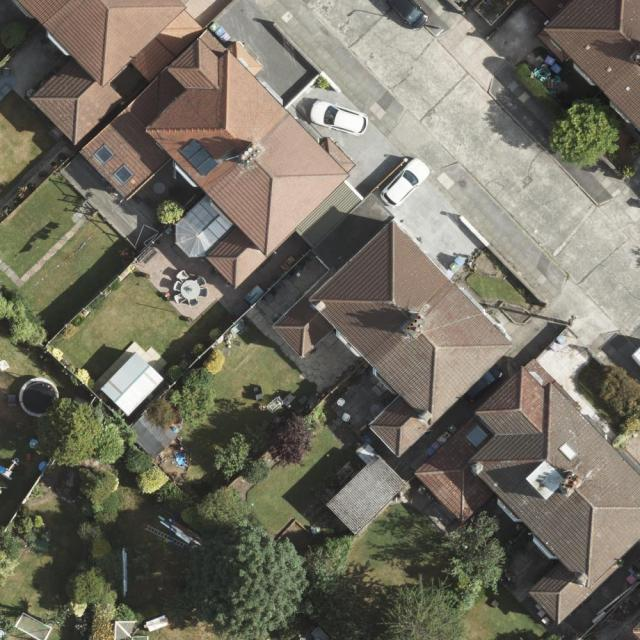roof: (16, 0, 518, 459), (417, 355, 640, 628), (543, 0, 640, 133)
skylight: (172, 195, 235, 256), (88, 139, 117, 167), (554, 439, 580, 466), (110, 163, 137, 189), (466, 423, 490, 450)
solar: (180, 136, 220, 176)
